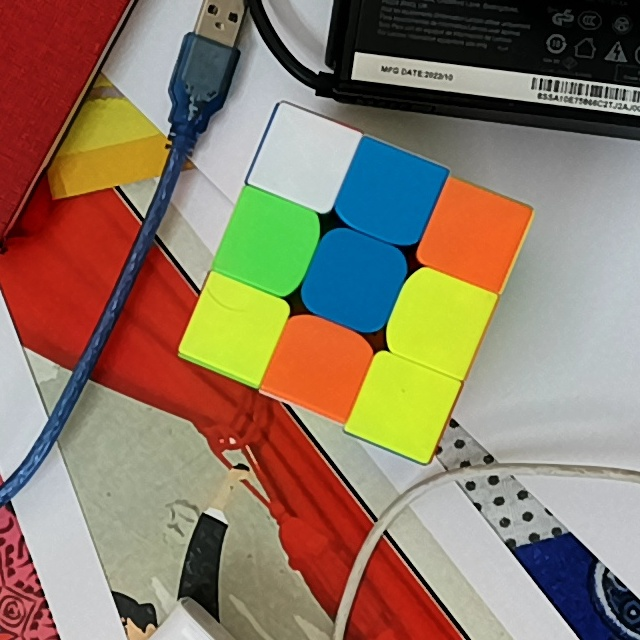tile: (284, 332, 353, 399), (439, 204, 509, 270), (404, 289, 471, 356), (354, 161, 422, 226), (201, 296, 267, 362), (369, 373, 437, 437), (236, 209, 301, 275), (323, 246, 387, 310), (272, 130, 336, 191)
